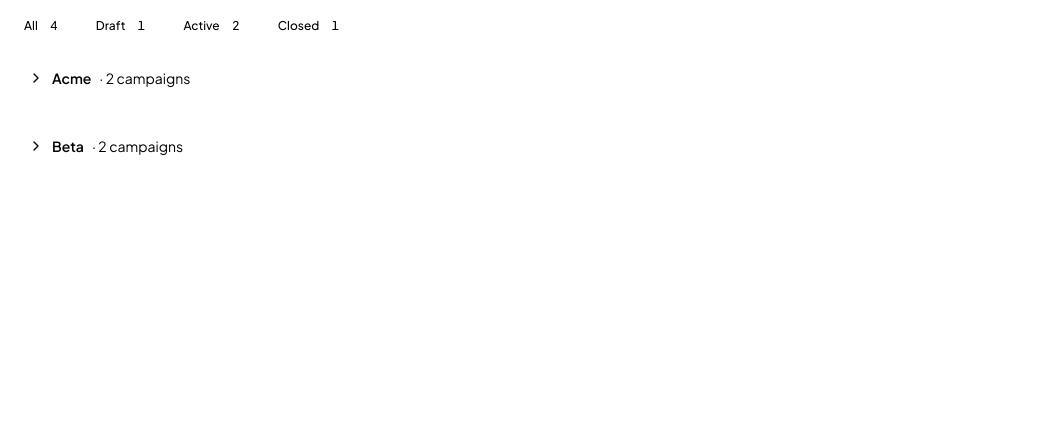
Scenario: CampaignsListWithFilter › returning to ALL restores every company in a collapsed state
Step 1. Click the button with test id "campaign-filter-pill-closed" → (312, 26), box [266,12,357,40]
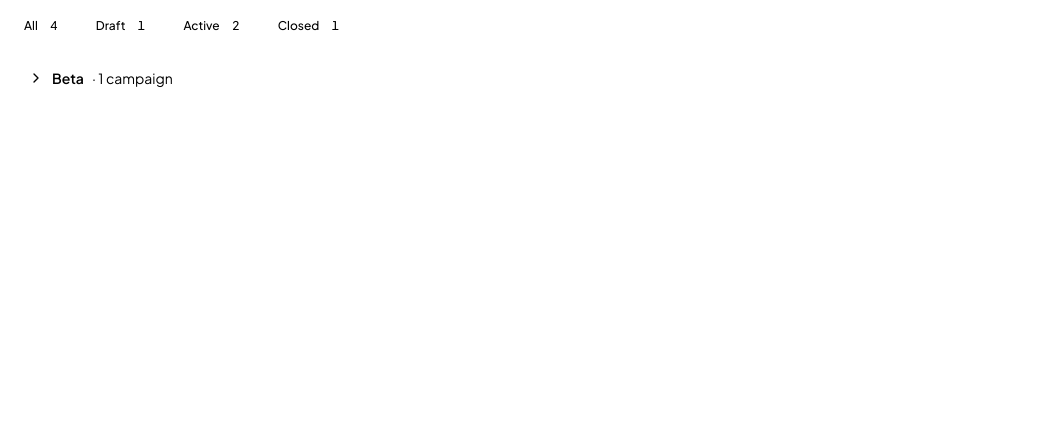
Check: the button "Acme" is gone
Step 2. Click the button with test id "campaign-filter-pill-all" → (44, 26), box [12,12,76,40]
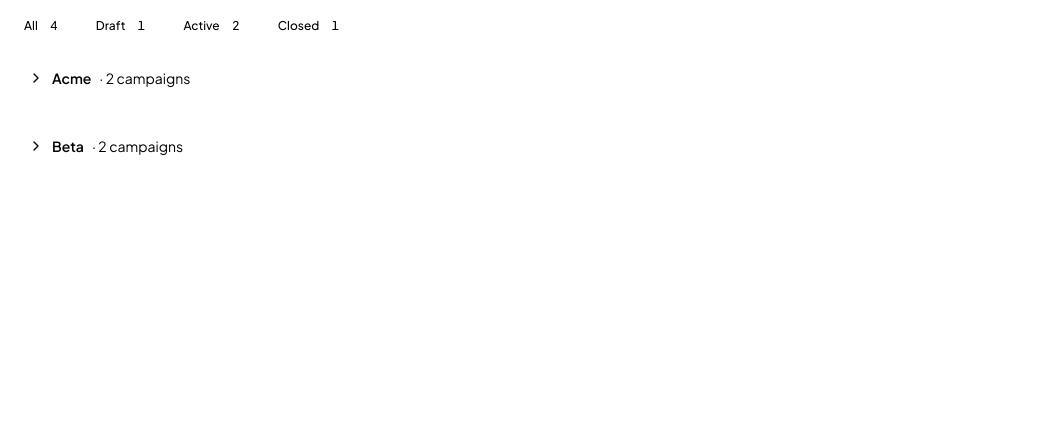
Step 3. Click the button "Acme · 2 campaigns" → (72, 78), box [12,56,1036,100]
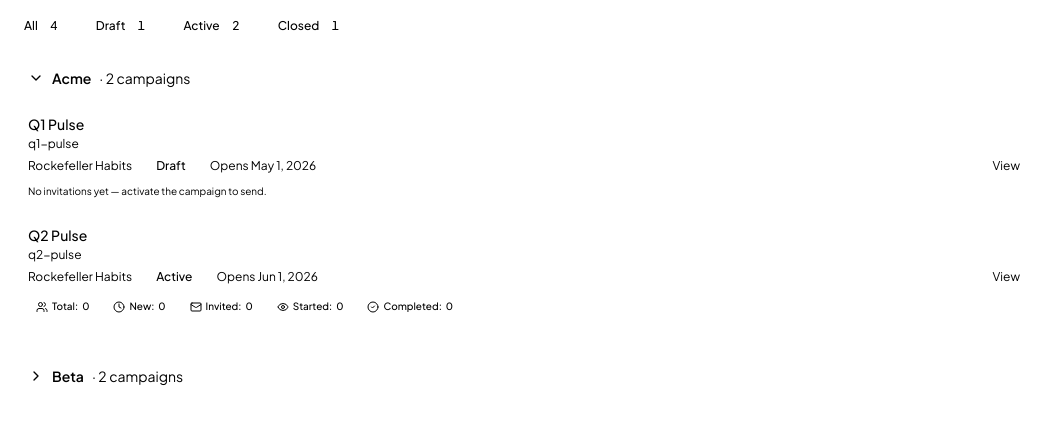
Check: the element with test id "campaign-row-c1" is shown, box [12,100,1036,211]
Check: the element with test id "campaign-row-c2" is shown, box [12,211,1036,330]
Step 4. Click the button "Beta · 2 campaigns" → (68, 376), box [12,354,1036,398]
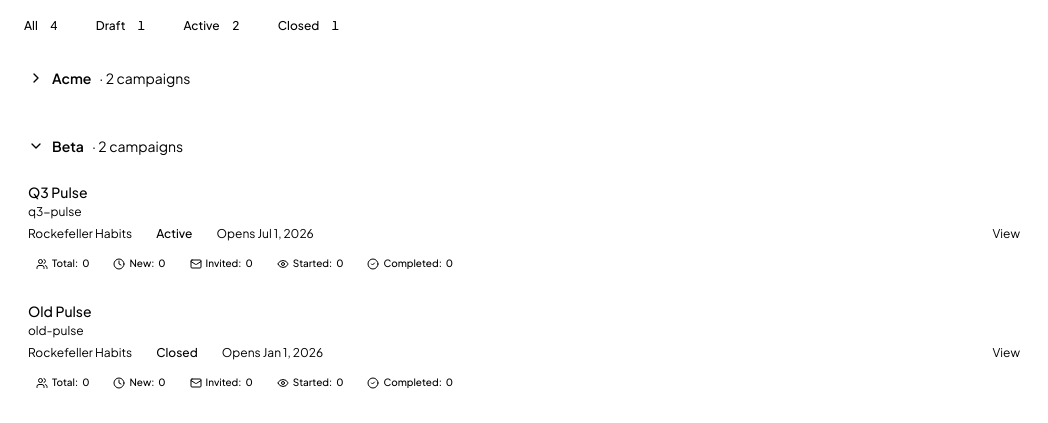
Check: the element with test id "campaign-row-c1" is gone
Check: the element with test id "campaign-row-c3" is shown, box [12,168,1036,287]
Check: the element with test id "campaign-row-c4" is shown, box [12,287,1036,406]
